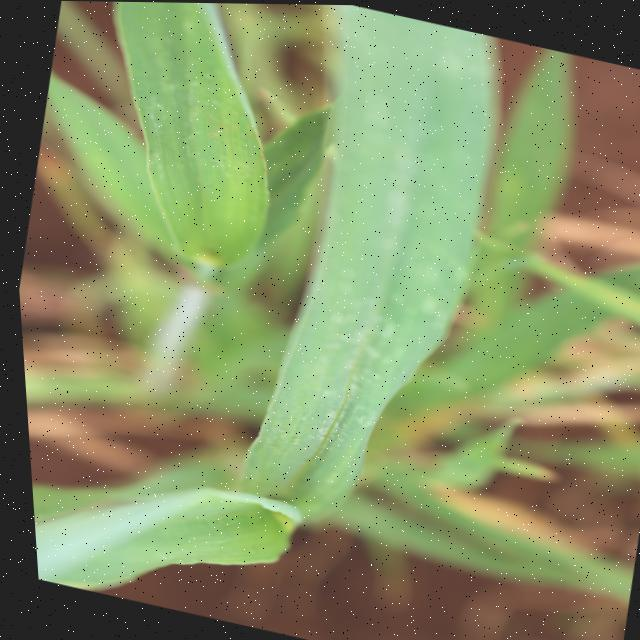healthy_wheat: (0, 0, 582, 640)
